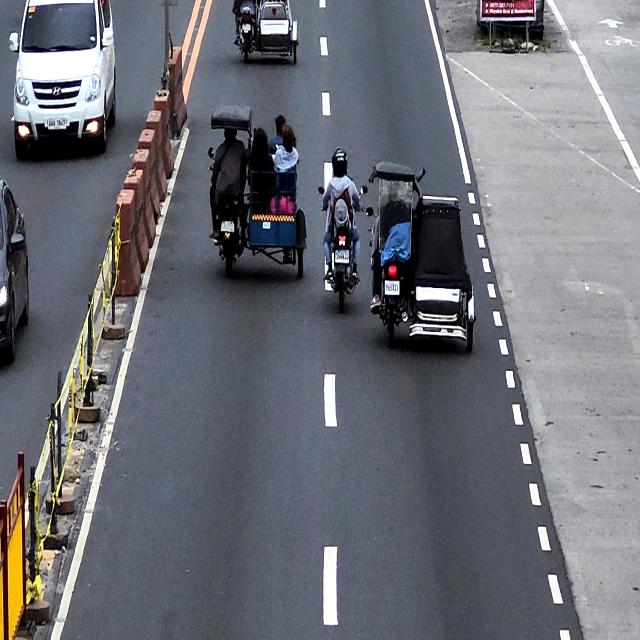License-Plate: (384, 280, 400, 296), (335, 250, 349, 263), (220, 220, 234, 232), (242, 24, 250, 31)
Motorcycle: (319, 185, 367, 312)
Tricycle: (368, 161, 477, 354), (208, 104, 306, 278), (234, 0, 300, 65)
